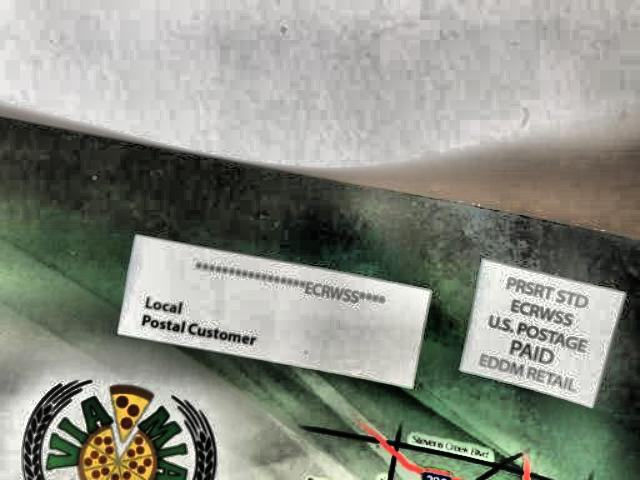Paper: (0, 106, 640, 480)
